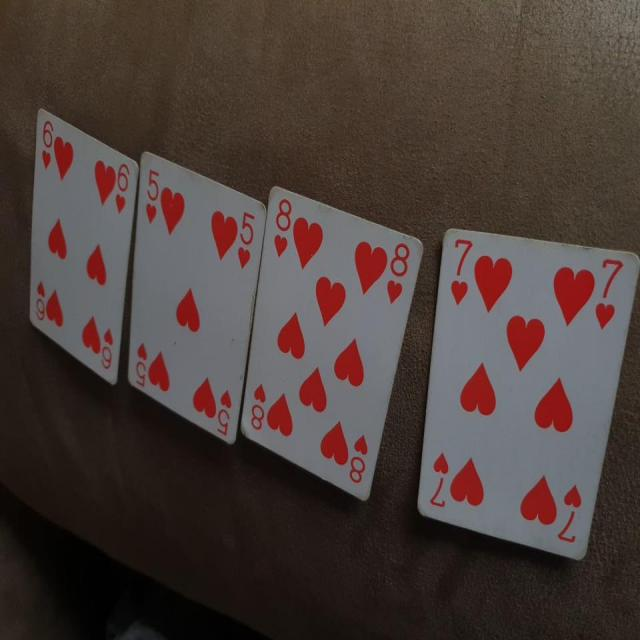5 Hearts: (127, 148, 266, 442)
6 Hearts: (24, 106, 133, 400)
7 Hearts: (414, 218, 638, 575)
8 Hearts: (238, 178, 426, 504)
